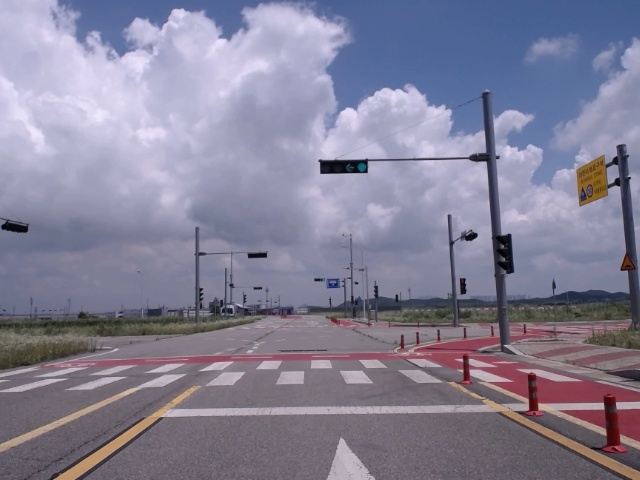all_green_4: (322, 161, 366, 172)
